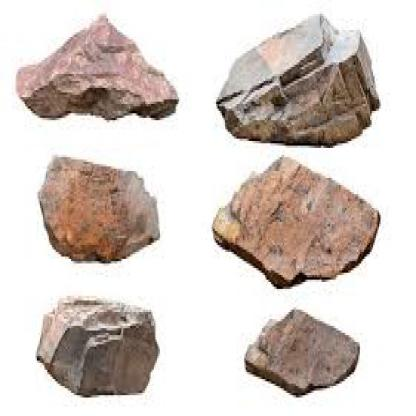Metamorphic_Marble: (204, 160, 384, 294), (211, 9, 378, 150), (12, 5, 183, 118), (30, 280, 167, 395), (36, 148, 167, 259), (233, 303, 368, 386)
